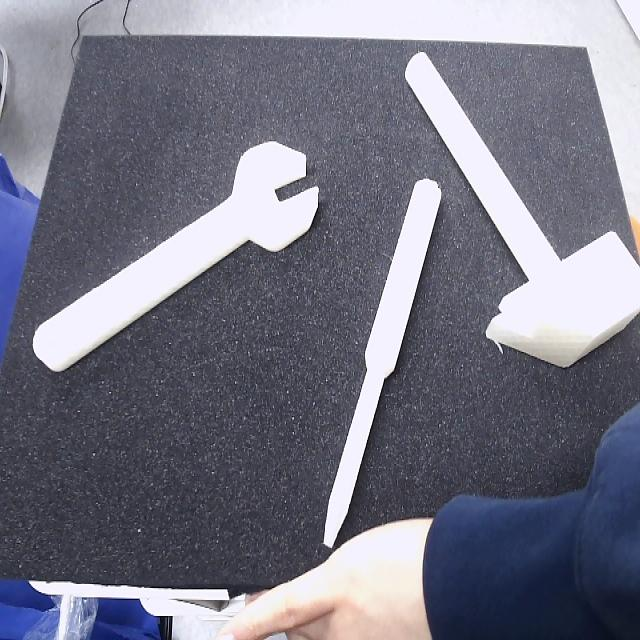Driver: (323, 179, 442, 551)
Hammer: (406, 52, 639, 369)
Spanner: (32, 141, 320, 373)
